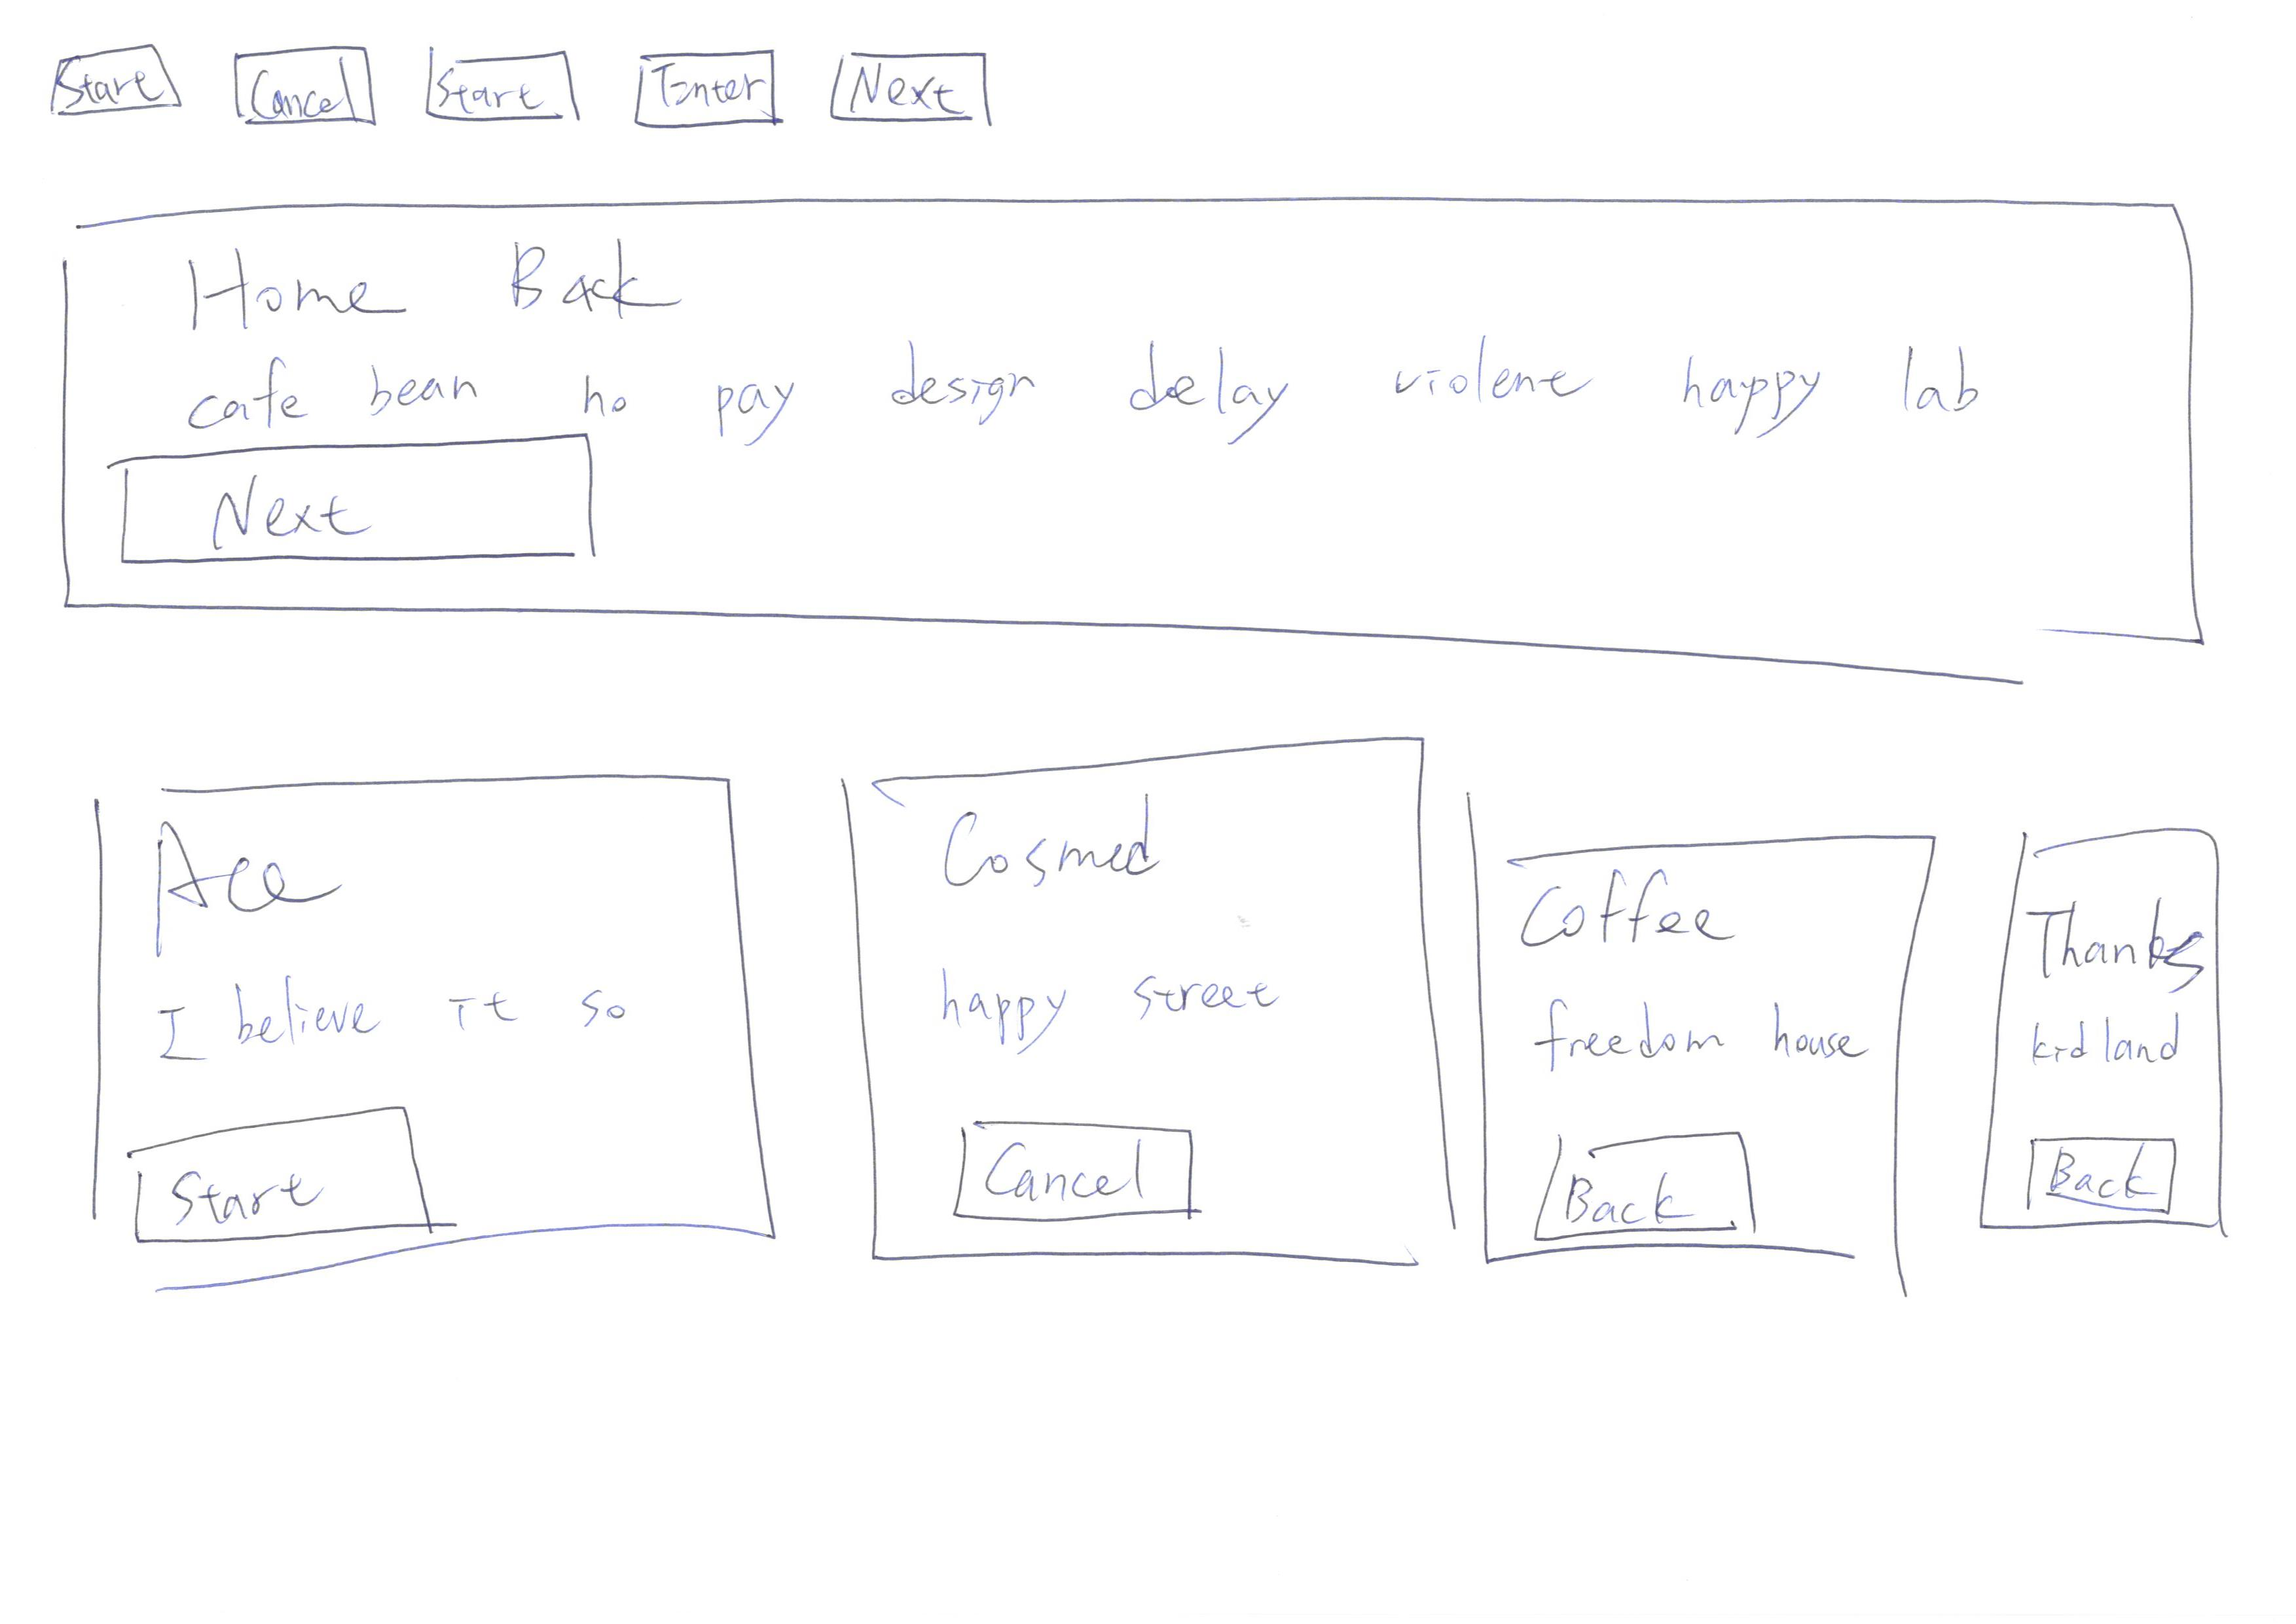back: (1526, 1120, 1772, 1260), (2004, 1127, 2199, 1230)
btn-active: (615, 35, 803, 146)
cancel: (923, 1097, 1243, 1239), (216, 33, 383, 148)
next: (93, 436, 607, 578), (826, 40, 1009, 158)
quadruple: (63, 750, 788, 1320), (819, 733, 1479, 1294), (1470, 812, 1971, 1322), (1976, 812, 2264, 1299)
row: (16, 682, 2296, 1329), (18, 170, 2270, 738), (18, 2, 2296, 185)
single: (62, 179, 2213, 708)
small-title: (153, 225, 721, 352), (925, 784, 1238, 916), (144, 821, 376, 967), (1531, 849, 1753, 965), (2036, 895, 2203, 995)
start: (107, 1097, 480, 1267), (413, 16, 596, 149), (42, 28, 188, 128)
text: (192, 346, 1987, 434), (149, 961, 633, 1053), (928, 960, 1347, 1058), (1526, 1000, 1791, 1072), (2025, 993, 2224, 1084)
